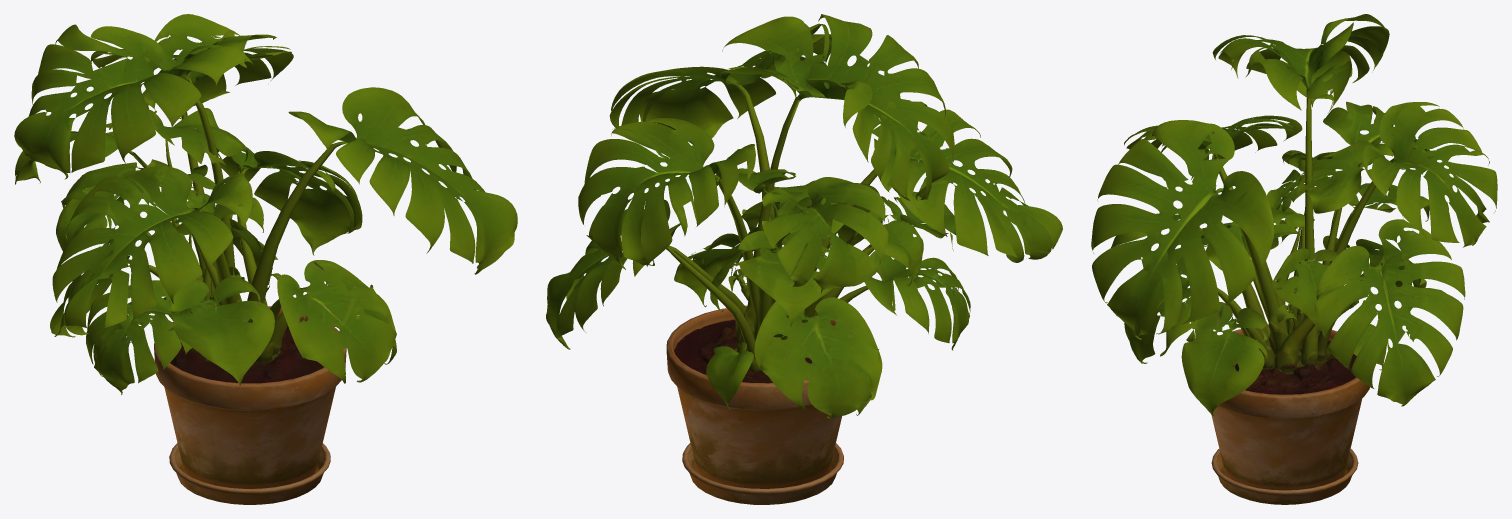
Rendered from plant1.glb.
3 views of the same model, side by side, from view 1: azimuth 30°, elevation 25°; view 2: azimuth 150°, elevation 25°; view 3: azimuth 270°, elevation 25° (orthographic). The views are drawn at different scales.
Visible parts, largest first — view 1: tripo_node_720a9262-cc10-4896-a305-257e0f18000d; view 2: tripo_node_720a9262-cc10-4896-a305-257e0f18000d; view 3: tripo_node_720a9262-cc10-4896-a305-257e0f18000d.
Part boxes in pixels (left/top/right/bottom): tripo_node_720a9262-cc10-4896-a305-257e0f18000d: left=14, top=14, right=517, bottom=504; tripo_node_720a9262-cc10-4896-a305-257e0f18000d: left=546, top=14, right=1062, bottom=504; tripo_node_720a9262-cc10-4896-a305-257e0f18000d: left=1091, top=14, right=1497, bottom=504.
Bounding box in the file's own units: 0.9995 × 0.9995 × 0.896.
Materials: 1 (1 with a texture image).
